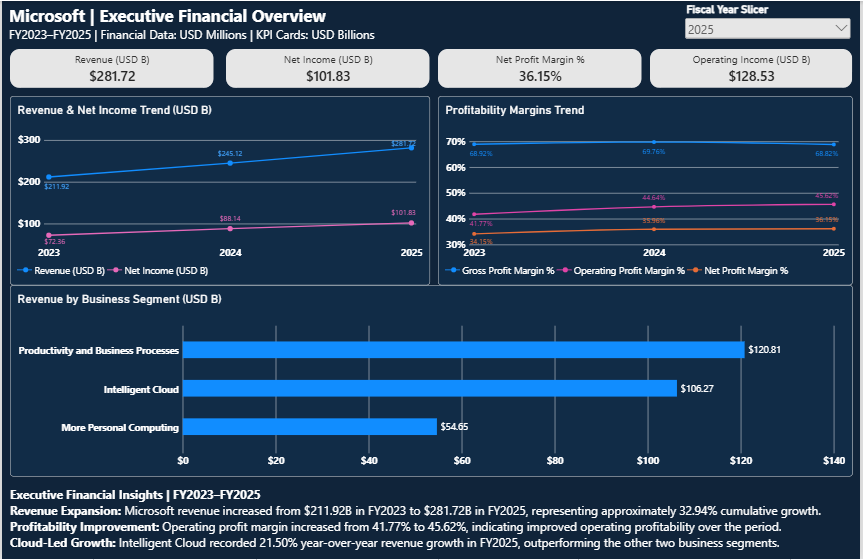

What the dashboard file says about the page in this screenshot:
{"tool":"powerbi","page":{"name":"Executive Overview","canvas":[1920,1250],"ordinal":0},"visuals":[{"type":"textbox","box":[14.8,5.6,839.3,104.1],"z":0},{"type":"cardVisual","fields":{"Data":["Key Measures.Net Income (USD B)"]},"box":[502.4,107.7,456.3,87.2],"z":2000},{"type":"cardVisual","fields":{"Data":["Key Measures.Revenue (USD B)"]},"box":[17.9,107.7,456.3,87.2],"z":3000},{"type":"cardVisual","fields":{"Data":["Key Measures.Operating Income (USD B)"]},"box":[1450.9,107.7,453.7,87.2],"z":4000},{"type":"cardVisual","fields":{"Data":["Key Measures.Net Profit Margin %"]},"box":[976.7,107.7,456.3,87.2],"z":5000},{"type":"lineChart","title":"Revenue & Net Income Trend (USD B)","fields":{"Category":["Dim_FiscalYear.FiscalYear"],"Y":["Key Measures.Revenue (USD B)","Key Measures.Net Income (USD B)"]},"box":[17.9,212.8,941.3,424.2],"z":6000},{"type":"lineChart","title":"Profitability Margins Trend","fields":{"Category":["Dim_FiscalYear.FiscalYear"],"Y":["Key Measures.Gross Profit Margin %","Key Measures.Operating Profit Margin %","Key Measures.Net Profit Margin %"]},"box":[976.5,213.7,928.7,424.2],"z":7000},{"type":"clusteredBarChart","title":"Revenue by Business Segment (USD B)","fields":{"Category":["Fact_Segments.Segment"],"Y":["Key Measures.Segment Revenue (USD B)"]},"box":[17.9,635.7,1887.6,429.2],"z":8000},{"type":"textbox","box":[17.6,1086.8,1887.6,163.2],"z":9000},{"type":"slicer","fields":{"Values":["Dim_FiscalYear.FiscalYear"]},"box":[1526.1,5,379.5,88.9],"z":9001}]}

Visuals, with their boxes in screenshot pixels (x1, y1, x2, y2), scaled from the page's 1920x1250 canvas onto the 863x560 screenshot:
textbox: [7, 3, 384, 49]
cardVisual - Key Measures.Net Income (USD B): [226, 48, 431, 87]
cardVisual - Key Measures.Revenue (USD B): [8, 48, 213, 87]
cardVisual - Key Measures.Operating Income (USD B): [652, 48, 856, 87]
cardVisual - Key Measures.Net Profit Margin %: [439, 48, 644, 87]
"Revenue & Net Income Trend (USD B)" lineChart: [8, 95, 431, 285]
"Profitability Margins Trend" lineChart: [439, 96, 856, 286]
"Revenue by Business Segment (USD B)" clusteredBarChart: [8, 285, 856, 477]
textbox: [8, 487, 856, 559]
slicer - Dim_FiscalYear.FiscalYear: [686, 2, 857, 42]
